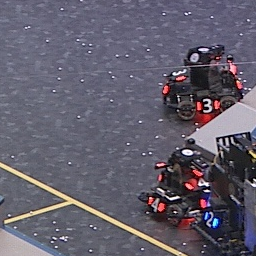Blue: (201, 211, 221, 228)
Red: (184, 177, 213, 191), (196, 98, 221, 113), (147, 195, 167, 213), (170, 68, 190, 81)
Robot: (194, 129, 256, 255), (158, 44, 247, 117), (140, 142, 220, 222)
